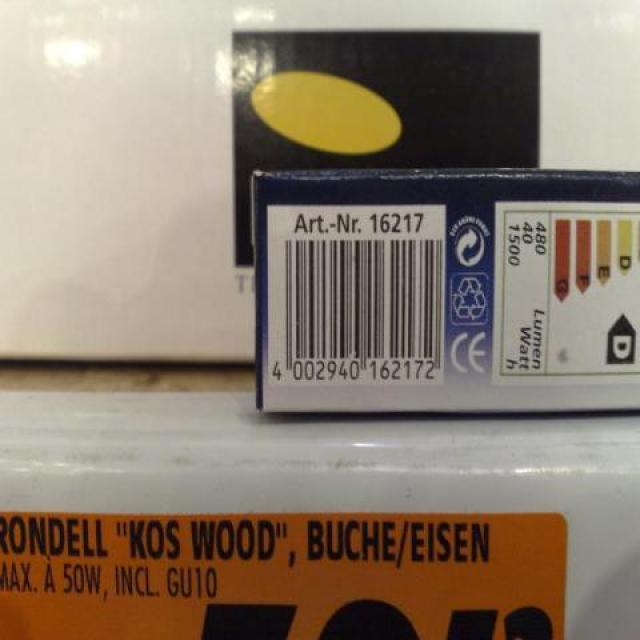Barcode: (268, 205, 448, 384)
